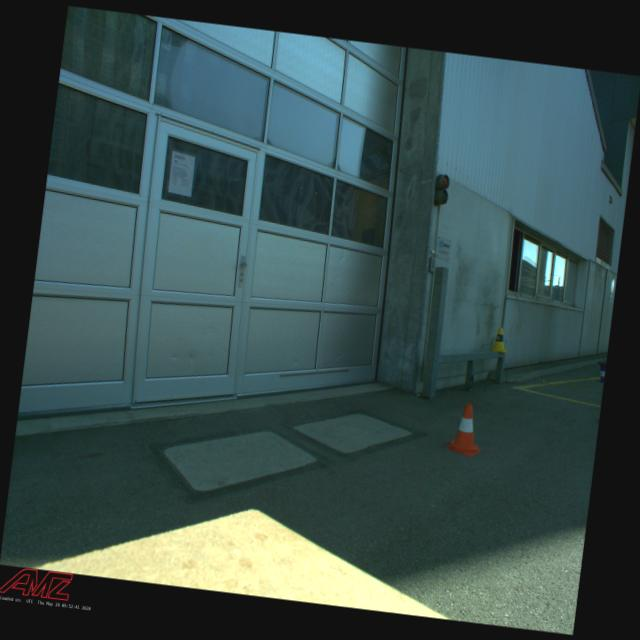blue_cone: (596, 361, 606, 382)
orange_cone: (444, 401, 486, 457)
yellow_cone: (490, 326, 509, 352)
